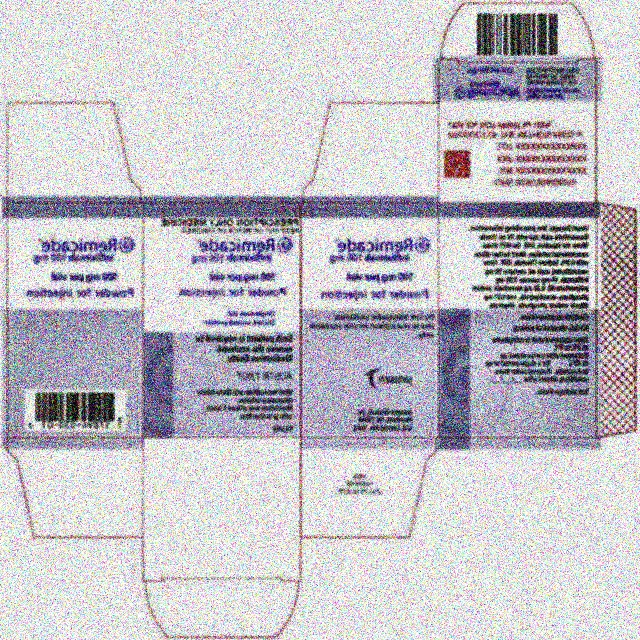Artwork: (0, 0, 640, 640)
Back_Panel: (438, 203, 596, 438)
Bottom_Part: (439, 59, 596, 203)
Extra_Areas: (1, 437, 143, 538), (301, 437, 439, 538), (302, 102, 438, 203), (7, 102, 142, 202), (596, 202, 639, 439), (440, 0, 594, 61), (145, 580, 300, 639), (437, 438, 601, 450), (141, 196, 302, 202), (2, 308, 7, 449), (0, 195, 8, 219)
Front_Panel: (143, 202, 300, 438)
Side_Panel: (301, 203, 438, 438), (8, 202, 143, 438)
Top_Panel: (143, 438, 300, 581)
